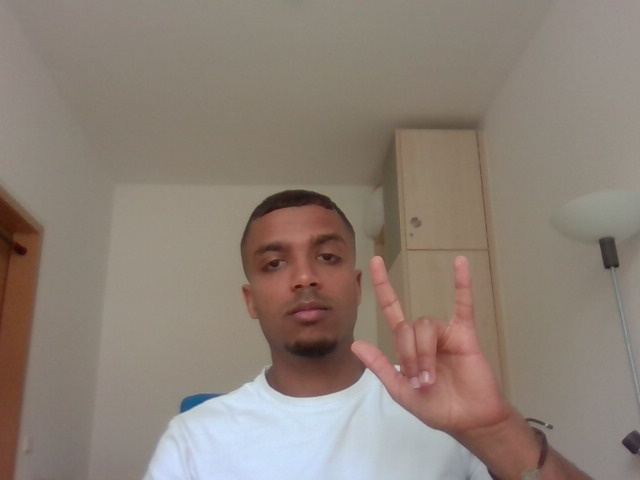absolutely: (345, 247, 529, 438)
